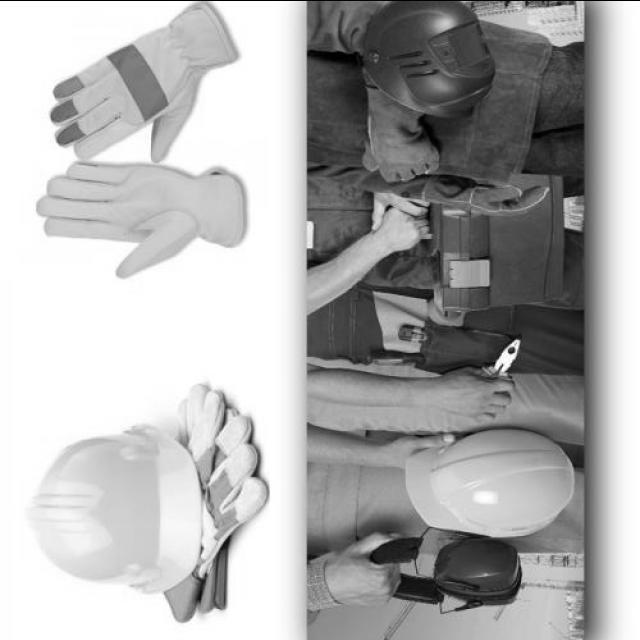safety_helmet: (32, 421, 206, 596), (404, 424, 580, 539)
